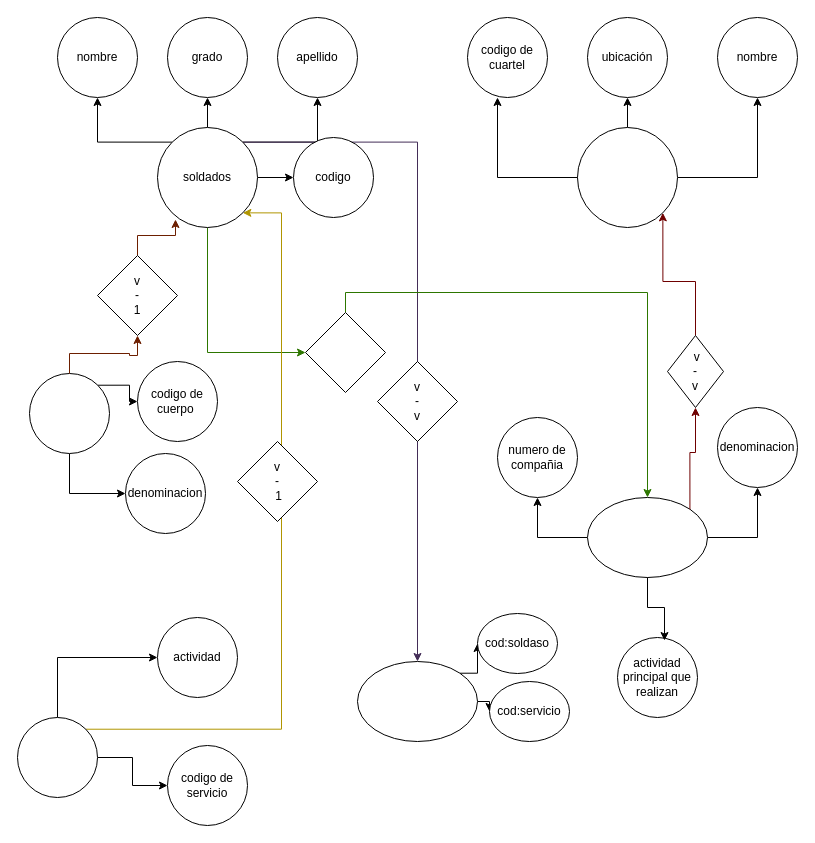
The diagram is 815 pixels wide and 843 high, and some of its shapes have lost their labels. Here are the shapes that lost their labels. From the top down, the centre of each, then its label:
At (627,177): "cuarteles".
At (345,352): "1 - v".
At (69,413): "cuerpos del ejercito".
At (647,537): "compañia".
At (417,701): "soldado-servicio".
At (57,757): "servicio".
